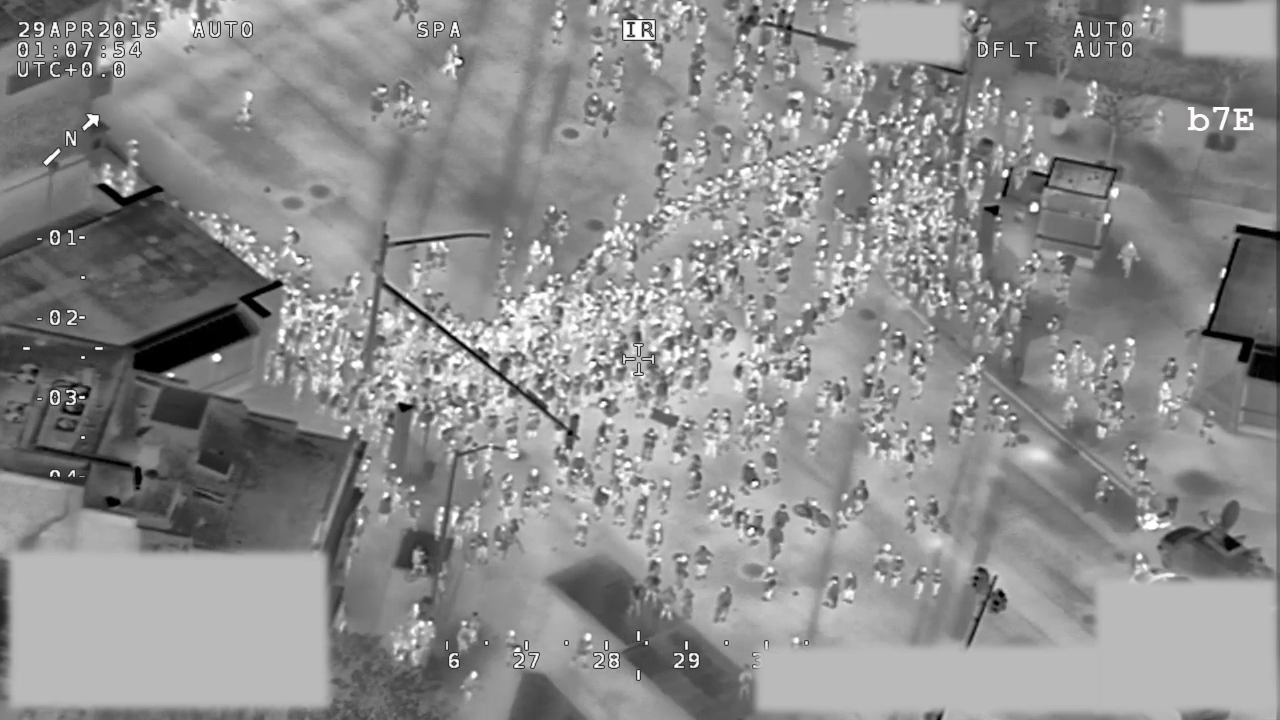vehicle: (1154, 496, 1280, 581)
